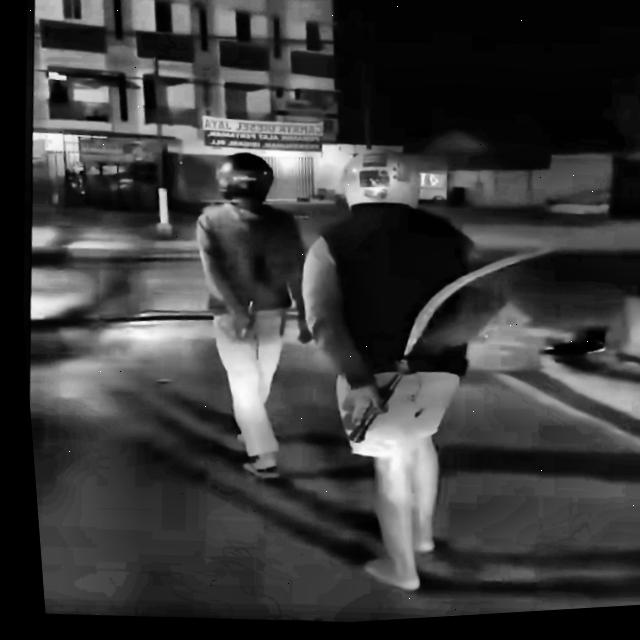celurit: (311, 206, 591, 506)
